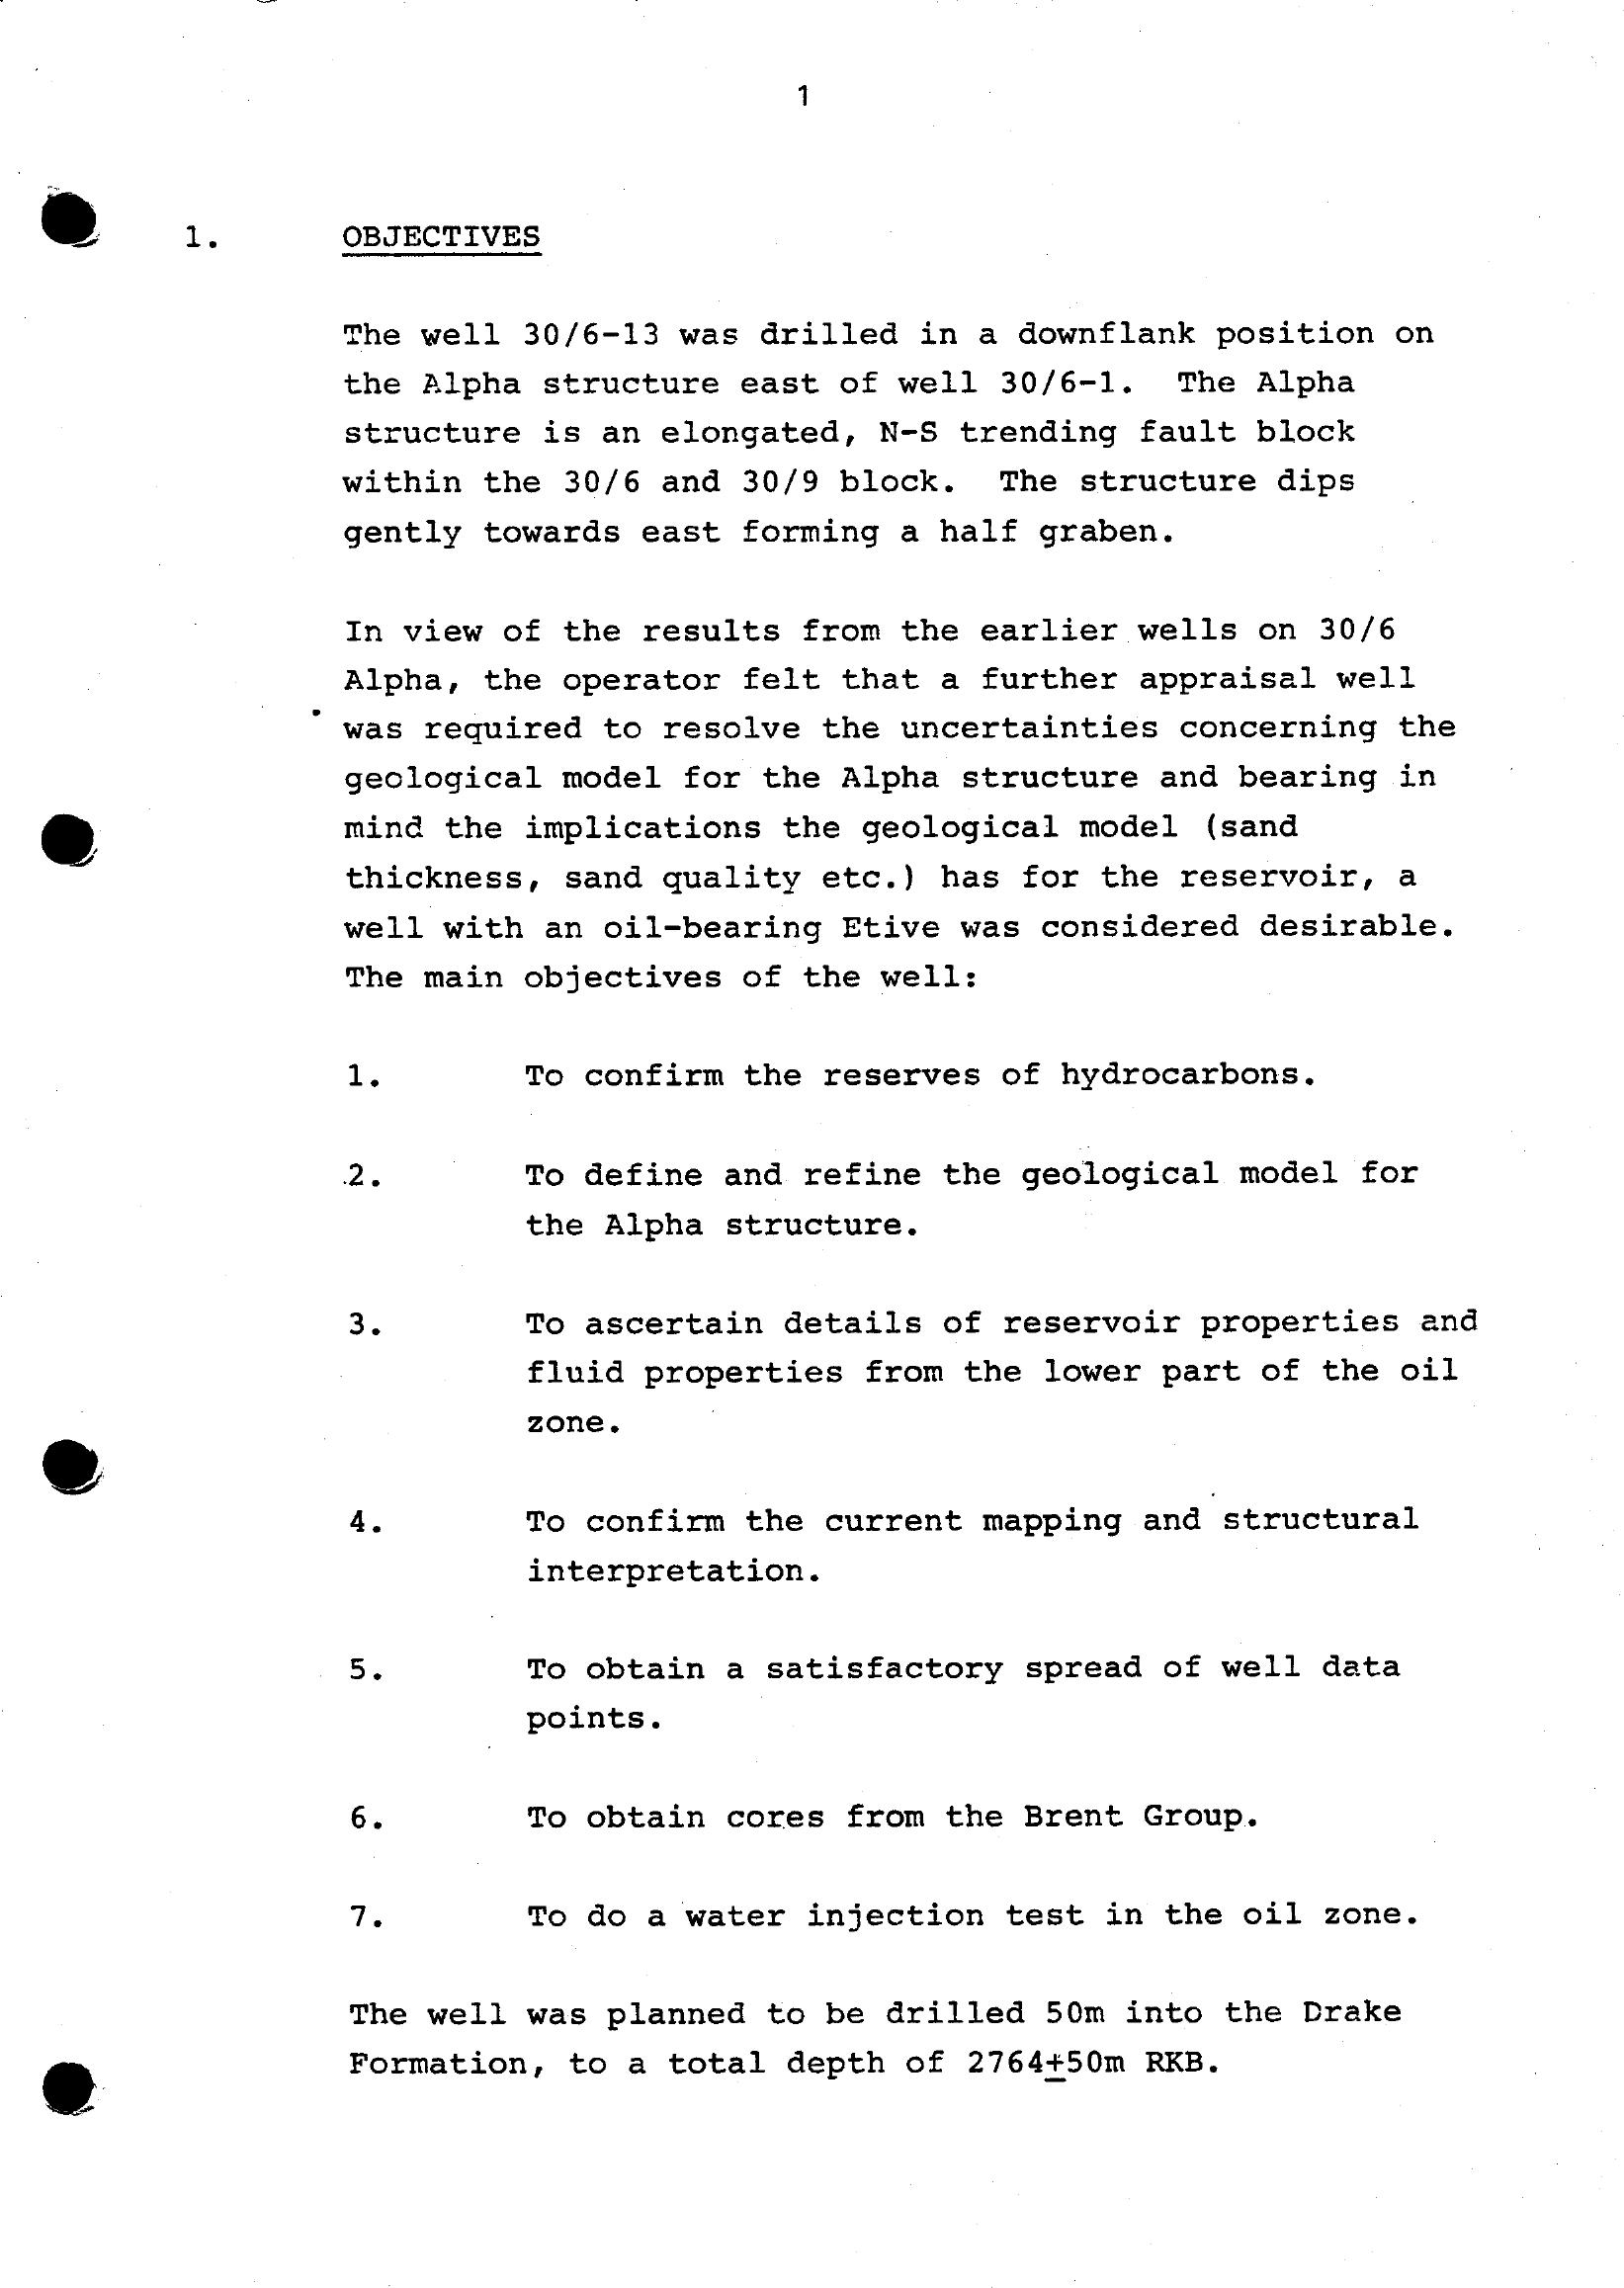text: (288, 177, 1543, 2144)
